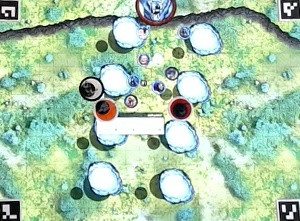orange: (94, 99, 117, 122)
red: (169, 97, 192, 119)
white: (80, 76, 103, 99)
